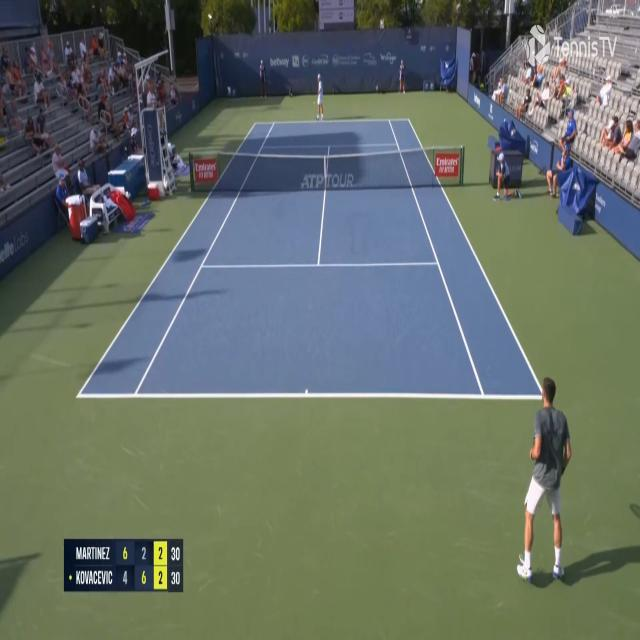tennis-player: (516, 373, 576, 588), (314, 74, 326, 122)
